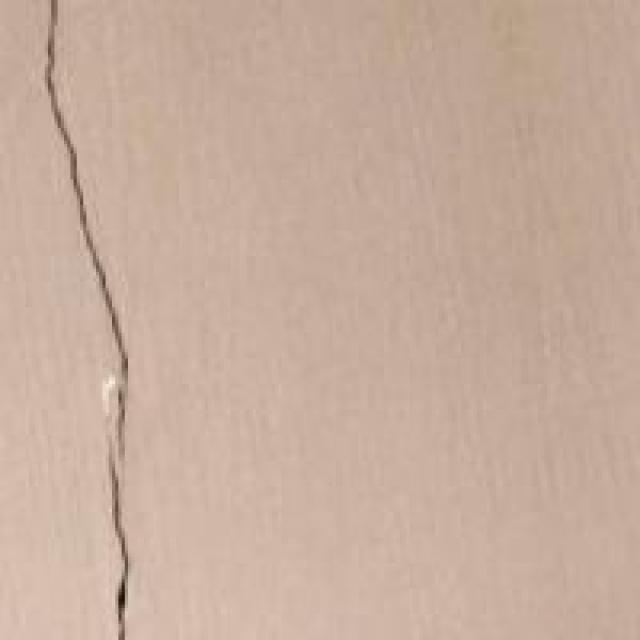crack: (0, 0, 150, 637)
